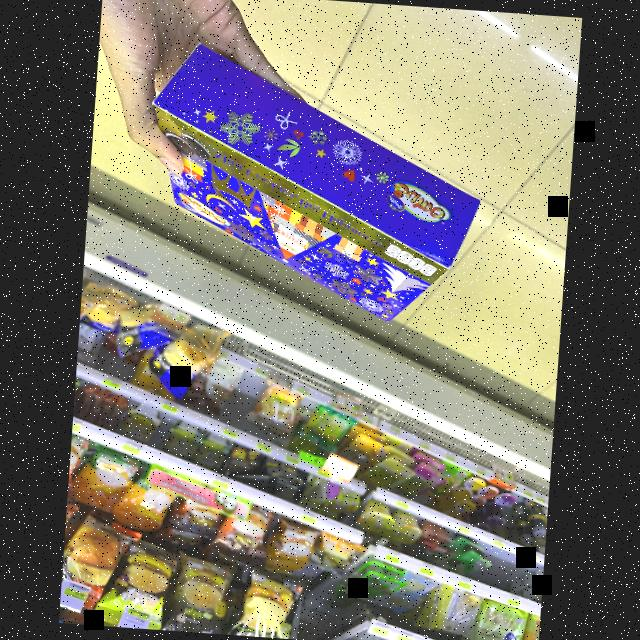cardboard_box: (125, 26, 498, 346)
